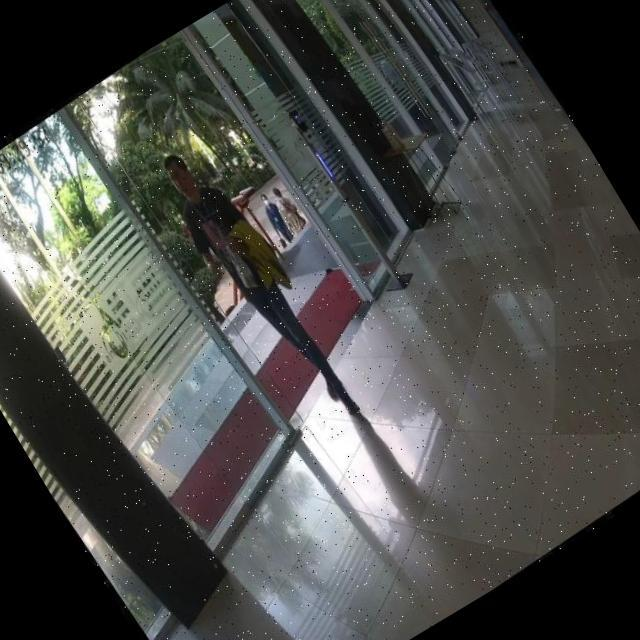person: (143, 132, 372, 444), (254, 187, 303, 253), (266, 182, 311, 240)
